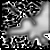node: (7, 18, 31, 35)
